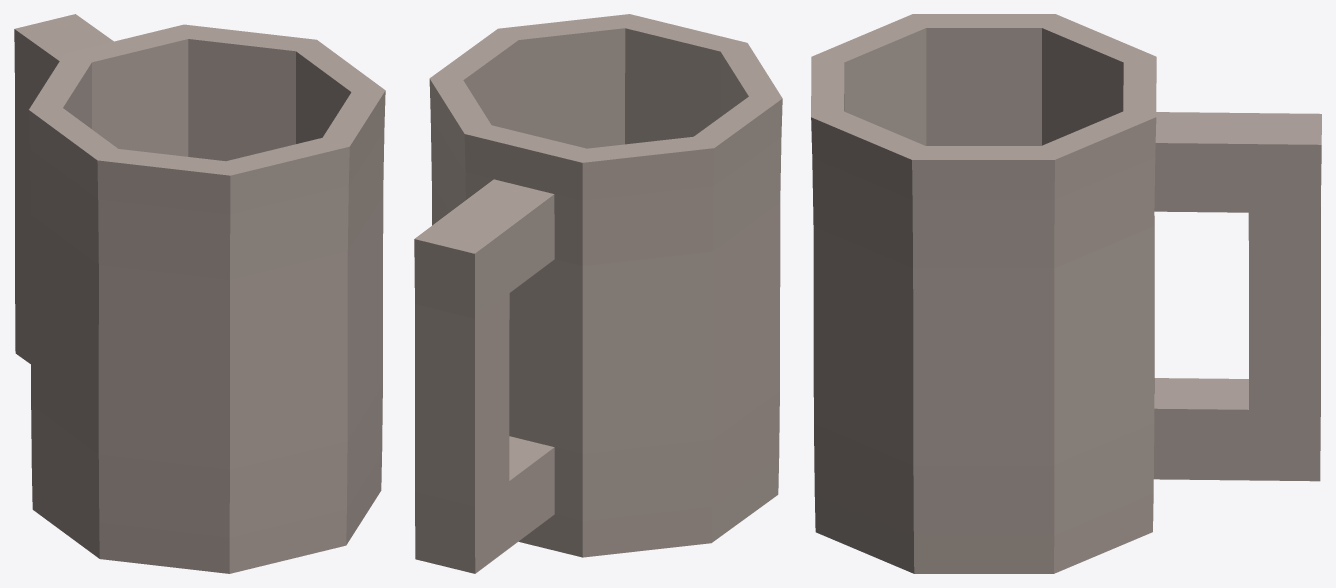
The model's file is Cup.fbx.
3 renders of one model, left to right at view 1: azimuth 30°, elevation 25°; view 2: azimuth 150°, elevation 25°; view 3: azimuth 270°, elevation 25°, orthographic. The views are drawn at different scales.
Visible parts, largest first — view 1: Cup; view 2: Cup; view 3: Cup.
Boxes of the visible parts, <box> form: Cup: <box>14,14,385,573</box>; Cup: <box>414,14,782,573</box>; Cup: <box>811,14,1321,573</box>.
Size of the model in its own units: 27.88 by 37.04 by 41.21.
